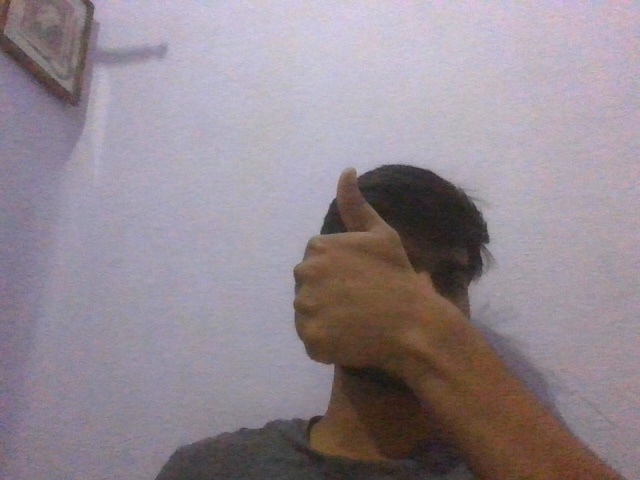thanks: (259, 150, 467, 411)
